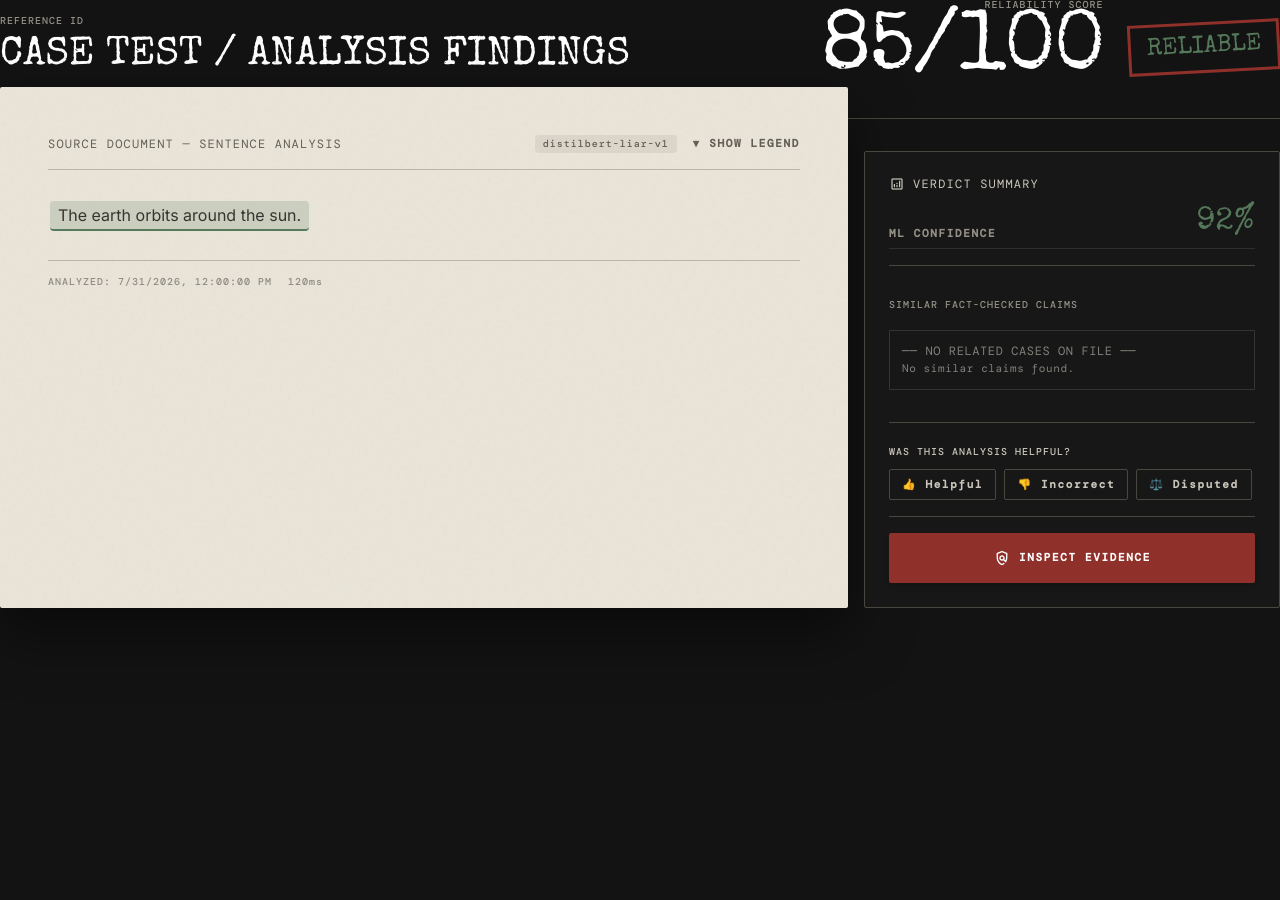
Test: AnalysisResult Component › allows clicking a sentence to open the sentence detail modal
This screenshot has width=1280, height=900.
Click the text "The earth orbits around the sun.".
click(180, 216)  # box [50,201,309,231]
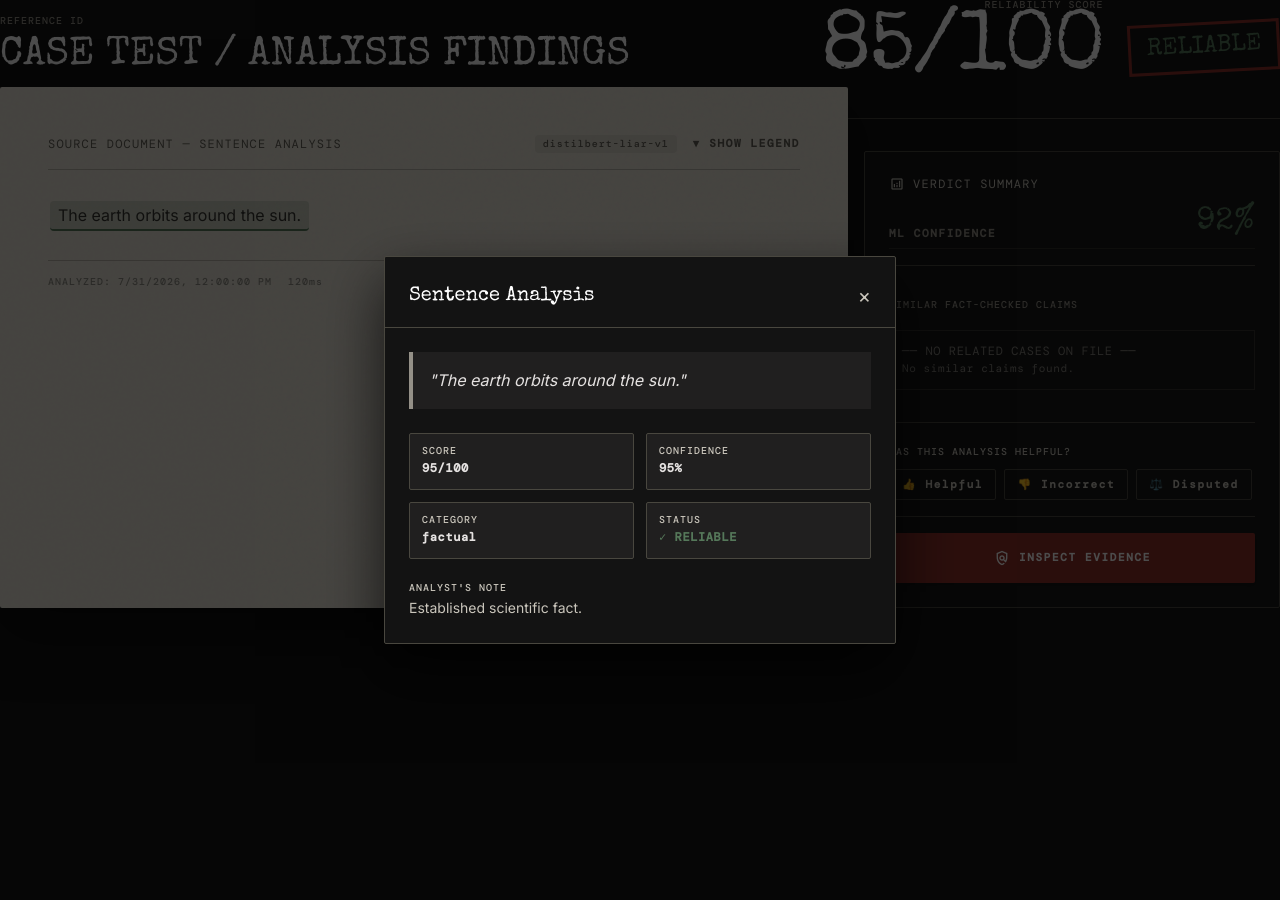
Result: the heading "Sentence Analysis" is shown at [409,280,594,310]
Result: the text "Established scientific fact." is shown at [409,599,582,616]
